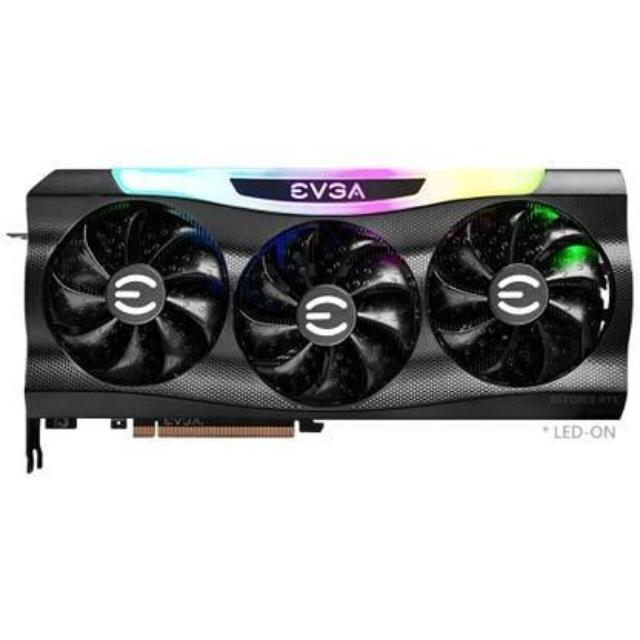GPU: (15, 150, 637, 442)
